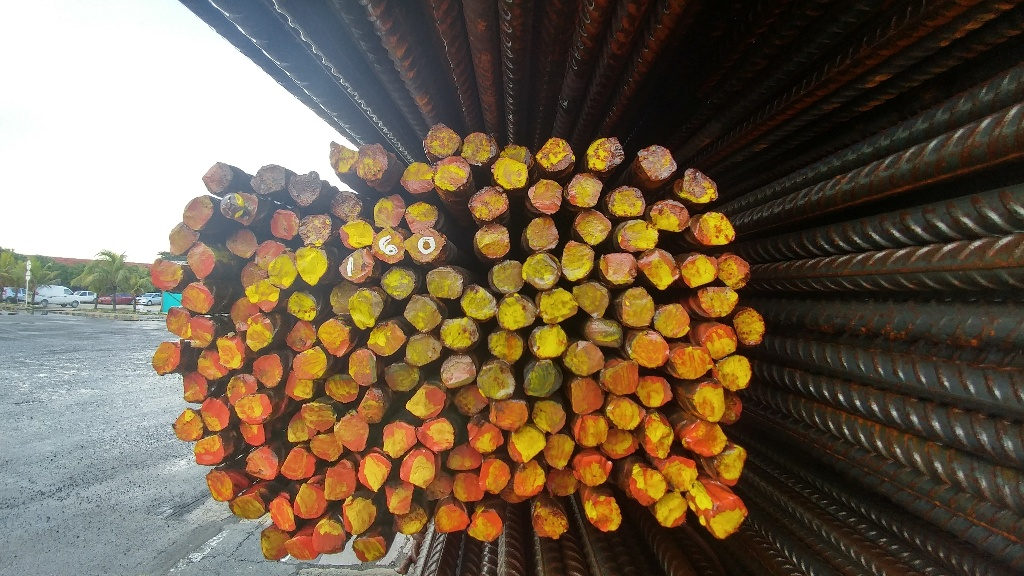dipstick: (638, 249, 679, 291), (711, 495, 748, 540), (630, 330, 668, 368), (636, 144, 676, 180), (399, 449, 436, 487), (523, 253, 561, 290), (694, 211, 735, 245), (685, 422, 726, 456), (350, 288, 383, 330), (525, 360, 562, 397), (468, 187, 508, 221), (406, 385, 447, 418), (561, 240, 594, 281), (404, 295, 441, 331), (630, 468, 666, 505), (680, 169, 718, 204), (535, 138, 574, 172), (477, 365, 516, 399), (539, 290, 578, 324), (406, 229, 446, 262), (575, 209, 611, 245), (587, 137, 624, 172), (587, 495, 622, 532), (295, 246, 327, 286), (622, 287, 654, 327), (357, 454, 391, 491), (508, 428, 546, 461), (498, 296, 536, 329), (565, 341, 603, 374), (618, 220, 658, 251), (694, 381, 724, 422), (527, 180, 562, 215), (468, 418, 503, 453), (417, 418, 453, 452), (654, 304, 690, 338), (571, 378, 605, 414), (343, 497, 376, 534), (681, 254, 718, 287), (318, 319, 350, 357), (674, 347, 712, 379), (607, 398, 645, 430), (651, 200, 690, 231), (698, 287, 737, 318), (325, 460, 355, 500), (424, 123, 459, 157), (664, 458, 698, 493), (338, 249, 374, 282), (372, 228, 405, 264), (573, 285, 609, 318), (357, 143, 389, 180), (336, 415, 368, 452), (573, 456, 612, 486), (382, 423, 416, 457), (435, 157, 470, 190), (289, 171, 322, 206), (462, 285, 497, 318), (441, 354, 476, 387), (568, 174, 603, 207), (605, 360, 638, 395), (718, 355, 751, 390), (369, 323, 405, 355), (514, 460, 546, 496), (487, 331, 523, 363), (530, 325, 566, 357), (221, 193, 258, 224), (599, 253, 637, 283), (312, 520, 345, 554), (294, 484, 327, 518), (476, 224, 510, 257), (526, 216, 559, 250), (702, 325, 736, 358), (532, 401, 566, 434), (479, 459, 511, 494), (406, 335, 442, 366), (644, 421, 674, 458), (338, 220, 376, 249), (585, 319, 623, 348), (245, 280, 278, 313), (373, 194, 405, 228), (718, 255, 750, 289), (492, 157, 527, 188), (427, 267, 462, 298), (734, 310, 765, 345), (533, 508, 568, 539), (250, 164, 286, 194), (491, 400, 527, 430), (235, 395, 272, 424), (348, 348, 377, 385), (246, 313, 274, 351), (718, 448, 746, 486), (294, 348, 327, 380), (381, 267, 414, 299), (394, 503, 428, 534), (493, 259, 524, 293), (610, 185, 644, 216), (574, 415, 608, 446), (656, 494, 686, 529), (323, 374, 359, 403), (602, 431, 639, 459), (202, 162, 234, 194), (246, 448, 278, 480), (281, 449, 314, 480), (299, 215, 332, 246), (639, 376, 672, 407), (400, 162, 434, 192), (184, 195, 214, 229), (544, 435, 574, 469), (442, 318, 477, 347), (462, 133, 493, 165), (151, 259, 183, 290), (182, 283, 214, 314), (405, 202, 438, 232), (268, 255, 296, 290), (357, 386, 384, 422), (189, 243, 215, 280), (445, 444, 482, 470), (226, 229, 257, 260), (452, 473, 484, 503), (261, 527, 290, 560), (386, 482, 415, 515), (454, 386, 487, 415), (329, 141, 357, 175), (301, 403, 335, 431), (228, 374, 258, 405), (287, 411, 317, 442), (331, 191, 363, 220), (170, 223, 199, 255), (174, 409, 203, 441), (202, 398, 230, 431), (386, 363, 419, 391), (546, 469, 579, 497), (435, 505, 469, 532), (218, 335, 244, 370), (330, 283, 359, 314), (287, 320, 315, 352), (470, 513, 502, 541), (269, 498, 296, 531), (310, 433, 343, 460), (353, 536, 386, 563), (195, 435, 224, 465), (287, 291, 317, 320), (199, 349, 227, 380), (153, 342, 180, 374), (206, 469, 233, 501), (256, 239, 285, 268), (285, 536, 320, 560), (285, 371, 312, 402), (234, 492, 266, 518), (232, 298, 258, 330), (270, 210, 298, 239), (423, 474, 451, 502), (241, 262, 268, 289), (167, 308, 190, 339), (183, 372, 207, 401), (191, 318, 214, 348), (724, 394, 742, 425), (240, 423, 264, 446)
